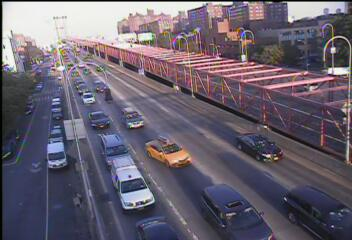neg: (65, 184, 88, 215)
